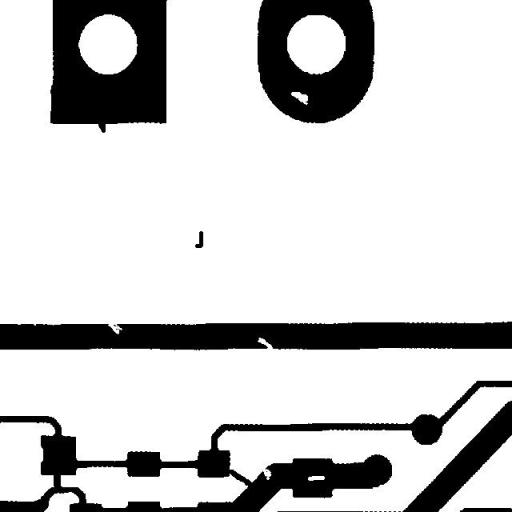copper: (188, 223, 210, 255)
mousebite: (100, 314, 130, 342), (250, 330, 280, 358), (253, 460, 278, 487)
pin-hole: (283, 84, 315, 112), (300, 468, 332, 488)
short: (217, 462, 261, 494), (46, 465, 68, 496)
spur: (90, 112, 113, 140)
